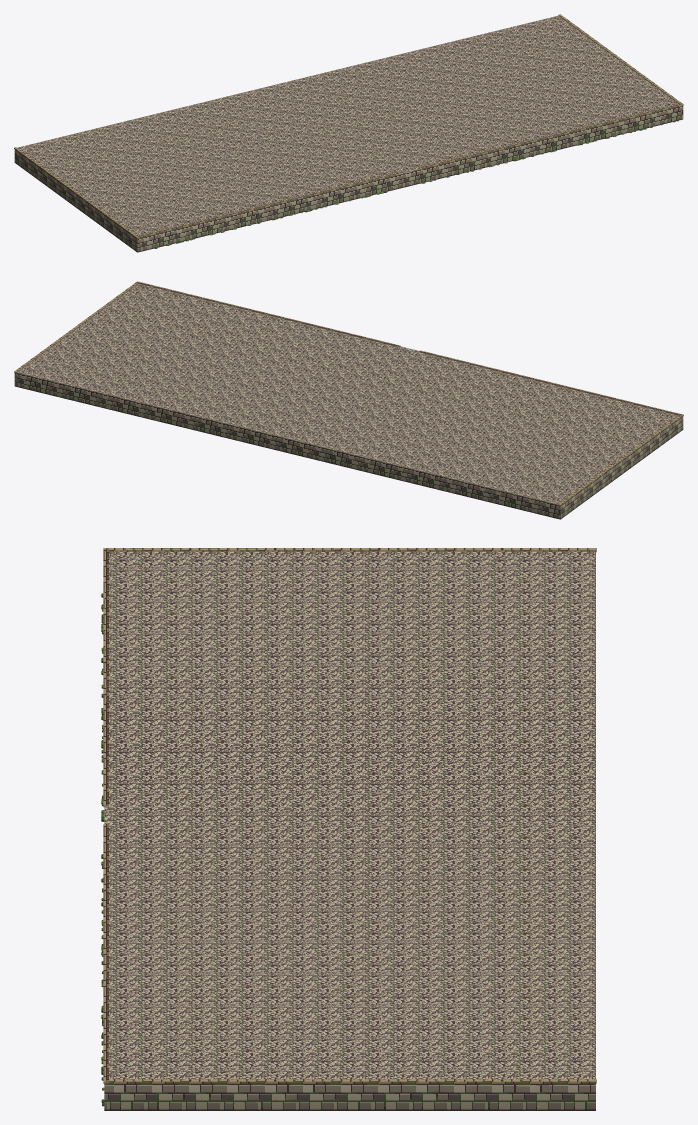
The model's file is scene_court.glb.
The picture shows the model from 3 angles, top to bottom: view 1: azimuth 30°, elevation 25°; view 2: azimuth 150°, elevation 25°; view 3: azimuth 270°, elevation 25°; orthographic projection. The views are drawn at different scales.
Visible parts, largest first — view 1: scene_court; view 2: scene_court; view 3: scene_court.
Part boxes in pixels (box(x1,y1,x2,y2)): scene_court: box(14, 14, 683, 252); scene_court: box(14, 281, 683, 519); scene_court: box(101, 548, 596, 1110).
Bounding box in the file's own units: 80.1 × 2.17 × 31.44.
3 materials, 2 textured.
